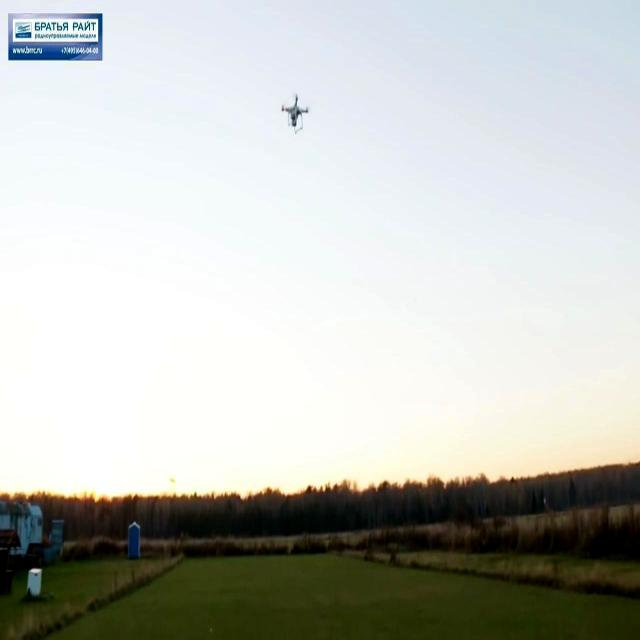drone: (283, 91, 307, 138)
